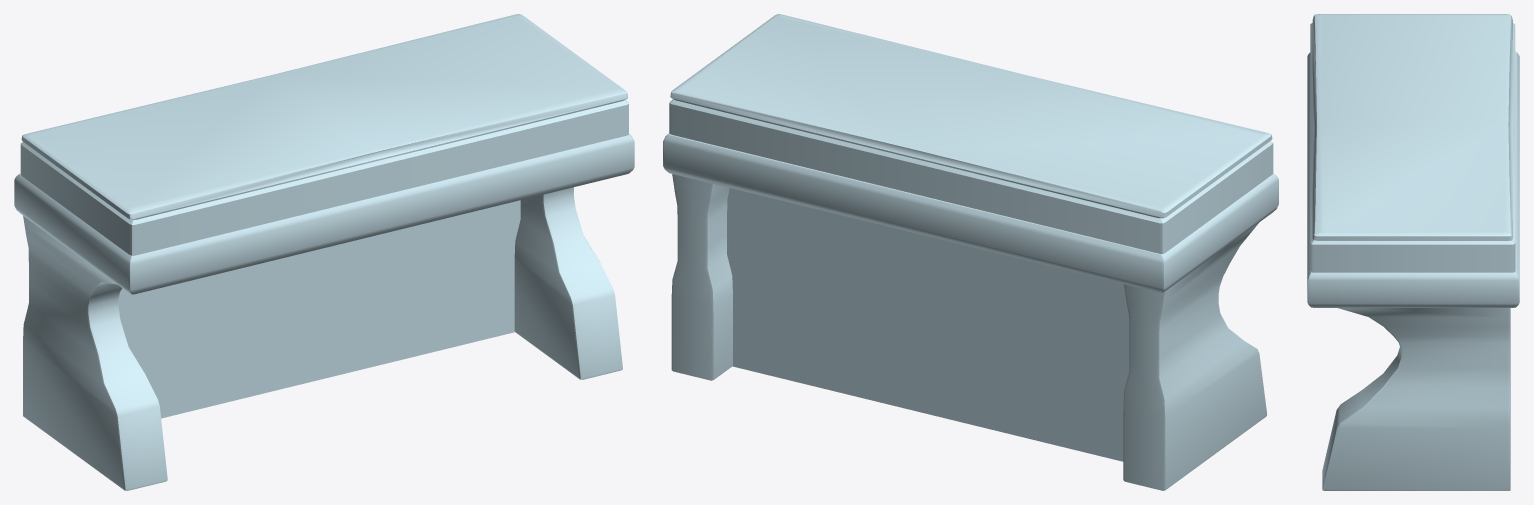
File: wait_chair_A.FBX
3 renders of one model, left to right at view 1: azimuth 30°, elevation 25°; view 2: azimuth 150°, elevation 25°; view 3: azimuth 270°, elevation 25°, orthographic. The views are drawn at different scales.
Parts seen in each view (by area): view 1: modeling_wait_chair; view 2: modeling_wait_chair; view 3: modeling_wait_chair.
Part boxes in pixels (x1=…): modeling_wait_chair: x1=14, y1=14, x2=634, y2=490; modeling_wait_chair: x1=663, y1=14, x2=1278, y2=490; modeling_wait_chair: x1=1307, y1=14, x2=1519, y2=490.
Size of the model in its own units: 103 by 55.16 by 41.3.
